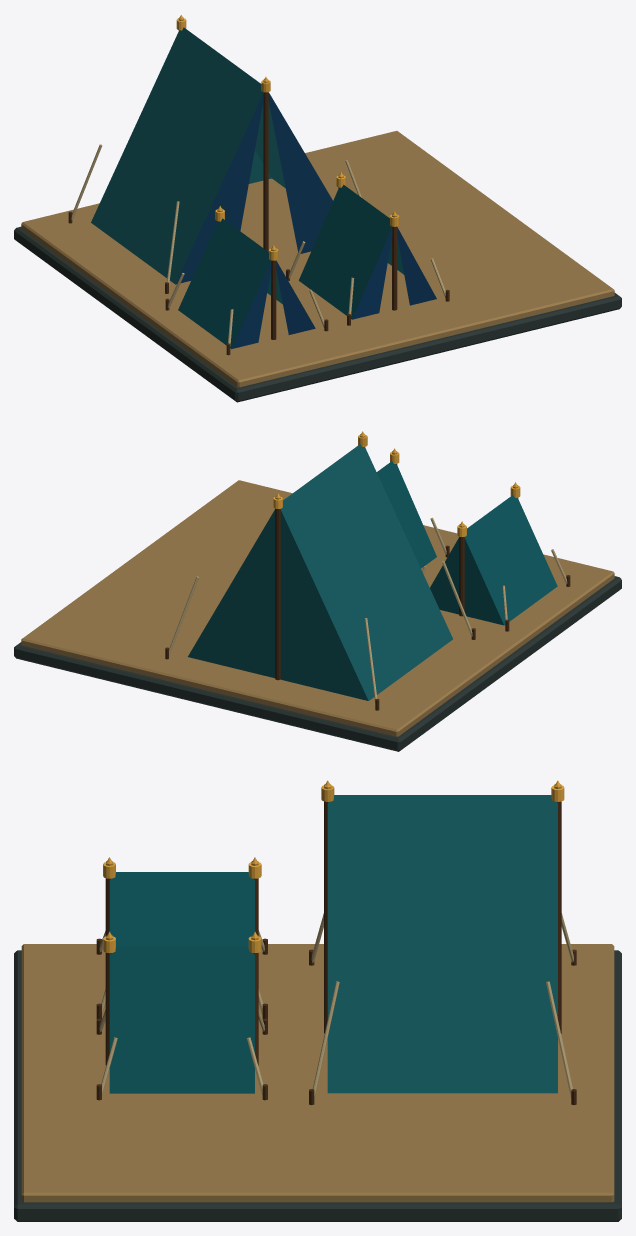
3 renders of one model, top to bottom at view 1: azimuth 30°, elevation 25°; view 2: azimuth 150°, elevation 25°; view 3: azimuth 270°, elevation 25°, orthographic. The views are drawn at different scales.
Visible parts, largest first — view 1: camp_level3_structure, camp_level3_metal; view 2: camp_level3_structure, camp_level3_metal; view 3: camp_level3_structure, camp_level3_metal.
Part boxes in pixels (<box>): camp_level3_structure: <box>14,17,621,402</box>; camp_level3_metal: <box>176,15,399,260</box>; camp_level3_structure: <box>14,434,621,751</box>; camp_level3_metal: <box>273,431,520,536</box>; camp_level3_structure: <box>14,784,621,1221</box>; camp_level3_metal: <box>103,780,564,953</box>.
Bounding box in the file's own units: 5.6 × 2.87 × 5.6.
